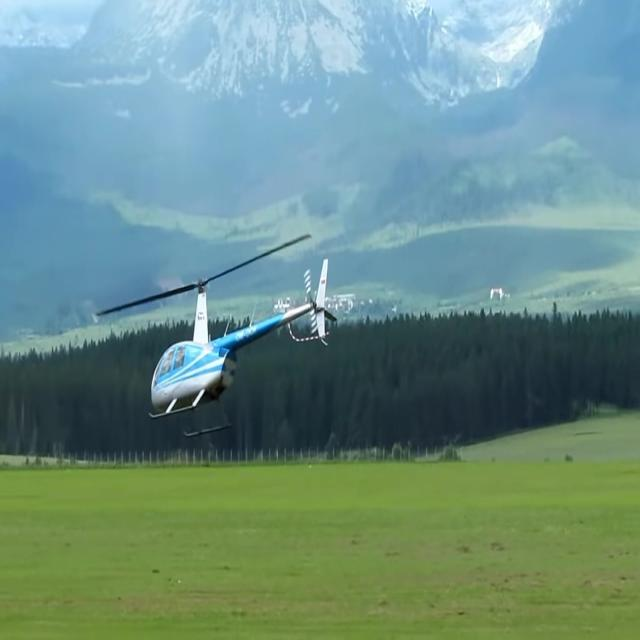CIV_HELO: (147, 256, 340, 441)
